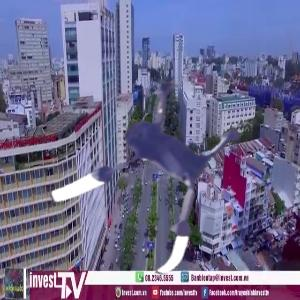drone: (39, 55, 264, 280)
